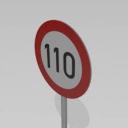speed_limit_110: (35, 20, 89, 99)
